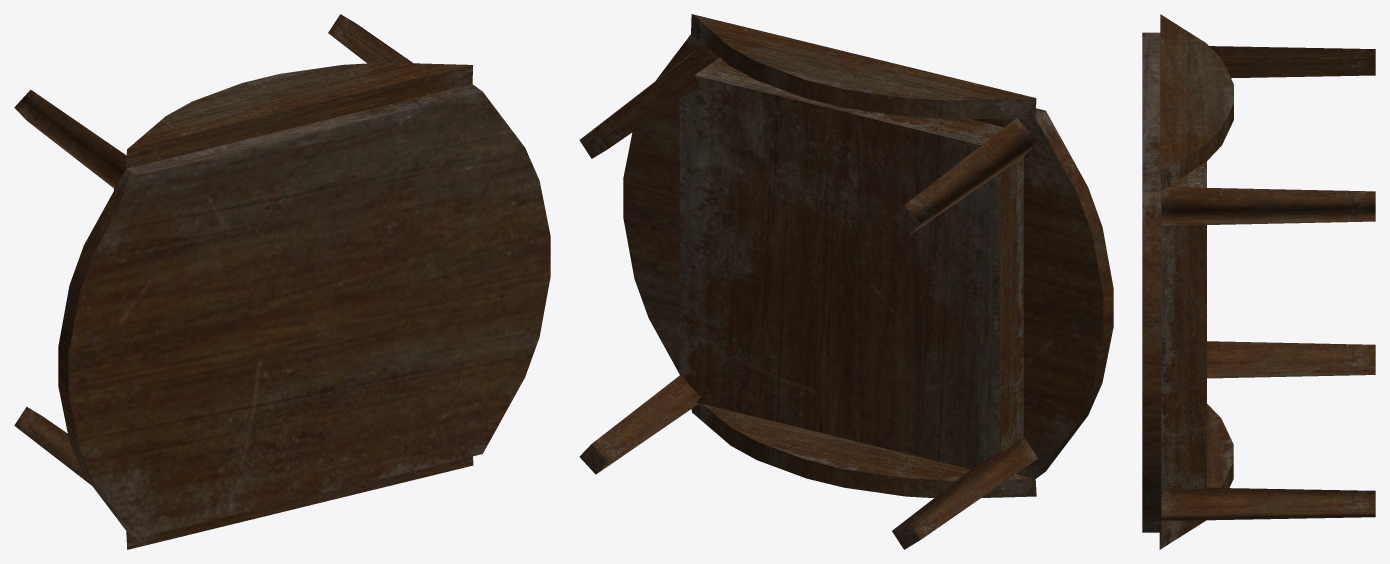
The model's file is furniture_smallfoldingtable.glb.
The picture shows the model from 3 angles, left to right: view 1: azimuth 30°, elevation 25°; view 2: azimuth 150°, elevation 25°; view 3: azimuth 270°, elevation 25°; orthographic projection. The views are drawn at different scales.
Size of the model in its own units: 69.44 by 55.09 by 30.95.
1 material, 1 textured.
